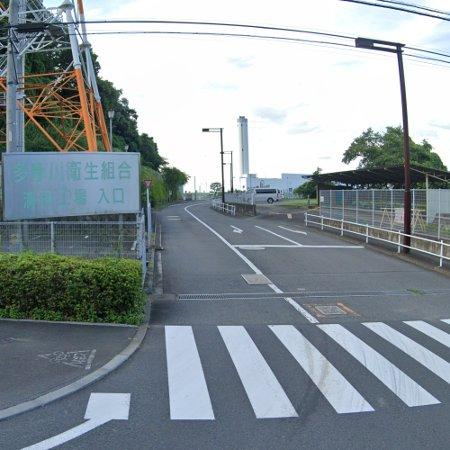crosswalks: (80, 314, 450, 424)
